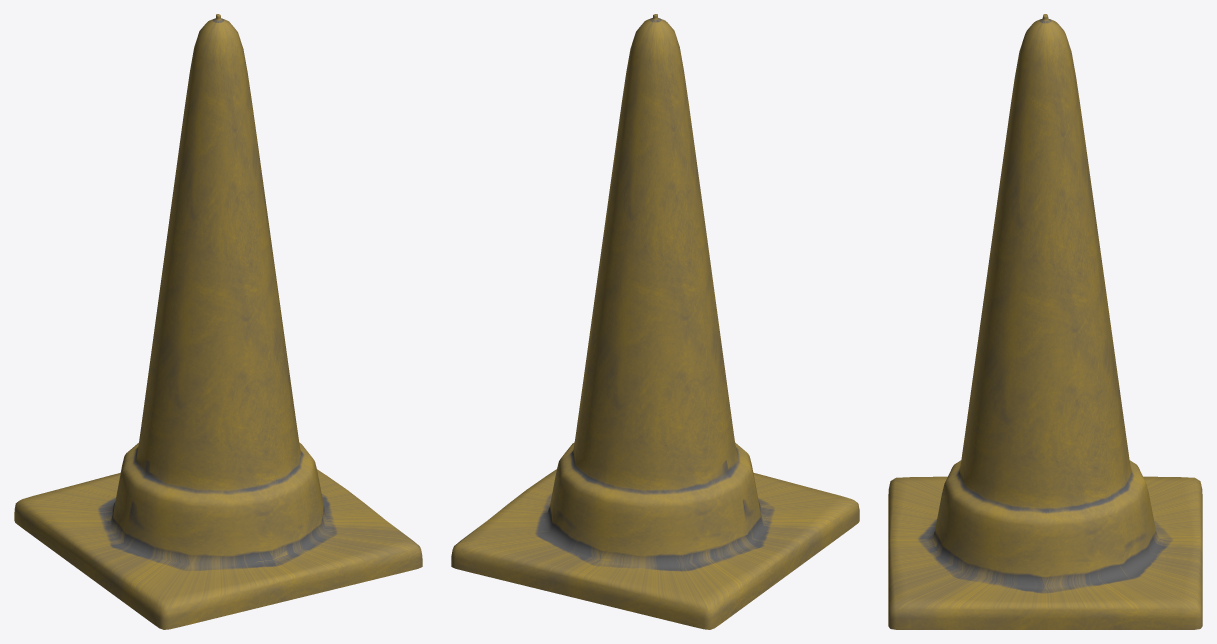
File: ColorCone_Basic_Dirty_Yellow_NoWeight.fbx
3 renders of one model, left to right at view 1: azimuth 30°, elevation 25°; view 2: azimuth 150°, elevation 25°; view 3: azimuth 270°, elevation 25°, orthographic. The views are drawn at different scales.
Visible parts, largest first — view 1: ColorCone_Basic_Dirty_Yellow_NoWeight; view 2: ColorCone_Basic_Dirty_Yellow_NoWeight; view 3: ColorCone_Basic_Dirty_Yellow_NoWeight.
Boxes of the visible parts, left/top/right/bottom form: ColorCone_Basic_Dirty_Yellow_NoWeight: left=14, top=14, right=422, bottom=629; ColorCone_Basic_Dirty_Yellow_NoWeight: left=451, top=14, right=859, bottom=629; ColorCone_Basic_Dirty_Yellow_NoWeight: left=888, top=14, right=1202, bottom=629.
Bounding box in the file's own units: 38 × 38 × 73.14.
1 material, 1 textured.
